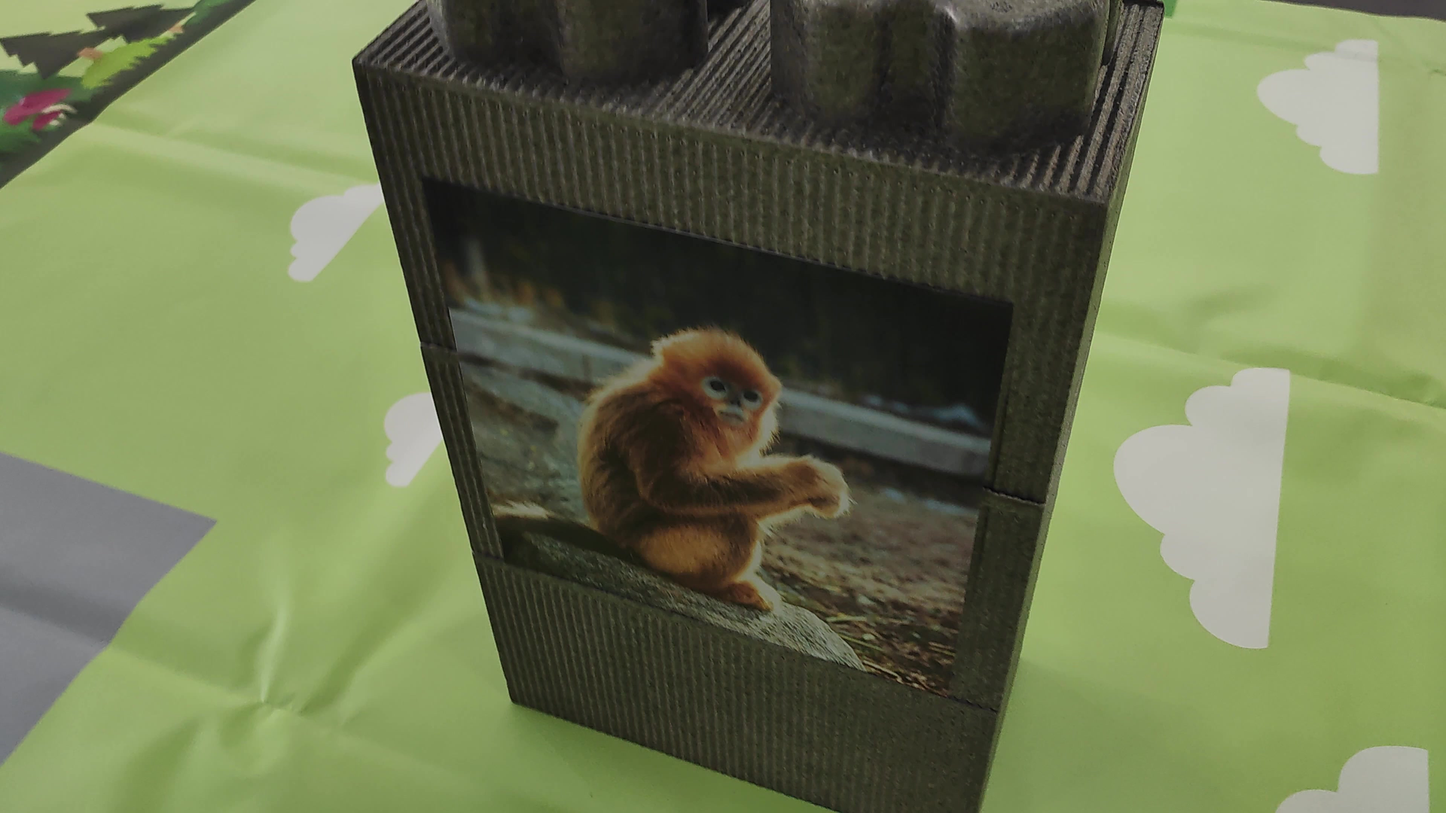monkey: (509, 251, 866, 615)
